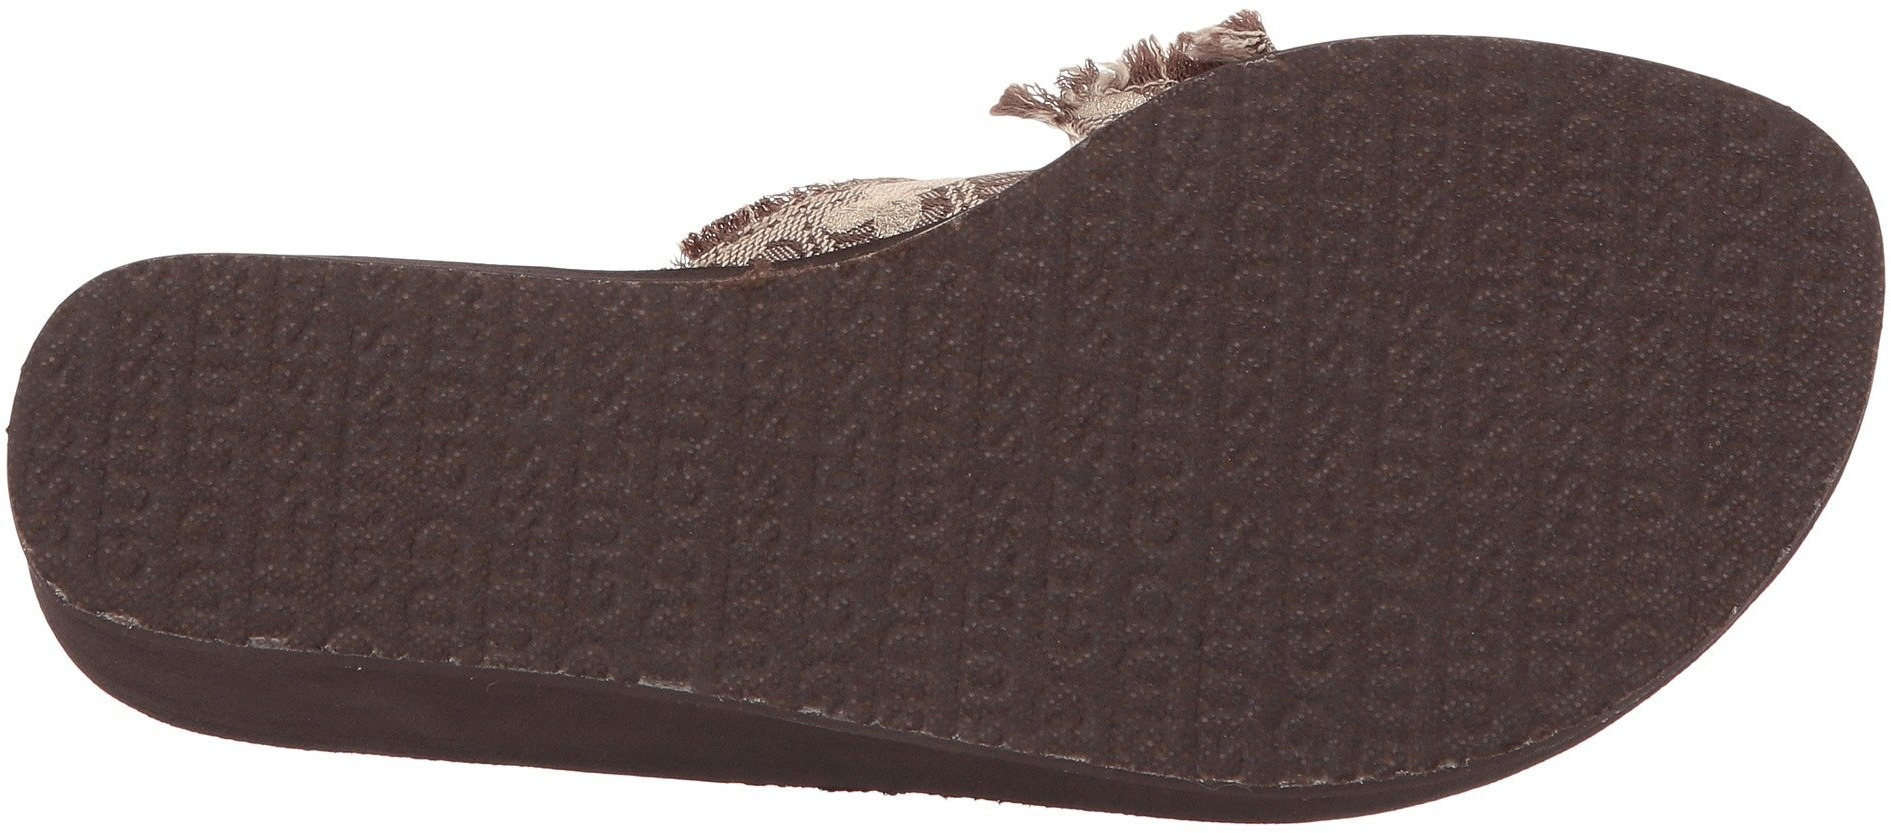text: (1362, 116, 1738, 481), (74, 333, 427, 617), (751, 309, 1047, 591), (445, 297, 736, 553), (1060, 184, 1345, 442), (1069, 488, 1347, 725), (1362, 512, 1565, 717)
